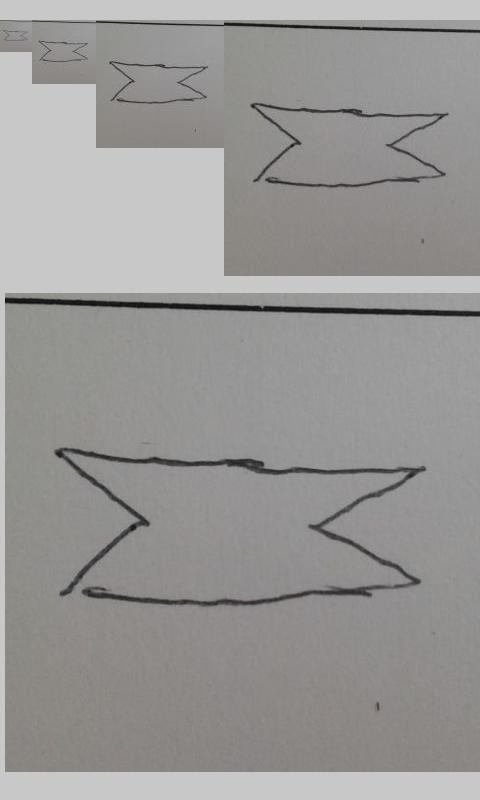edit_text: (53, 441, 429, 606), (250, 102, 450, 189), (109, 60, 208, 105), (38, 40, 88, 63), (3, 30, 29, 42)
